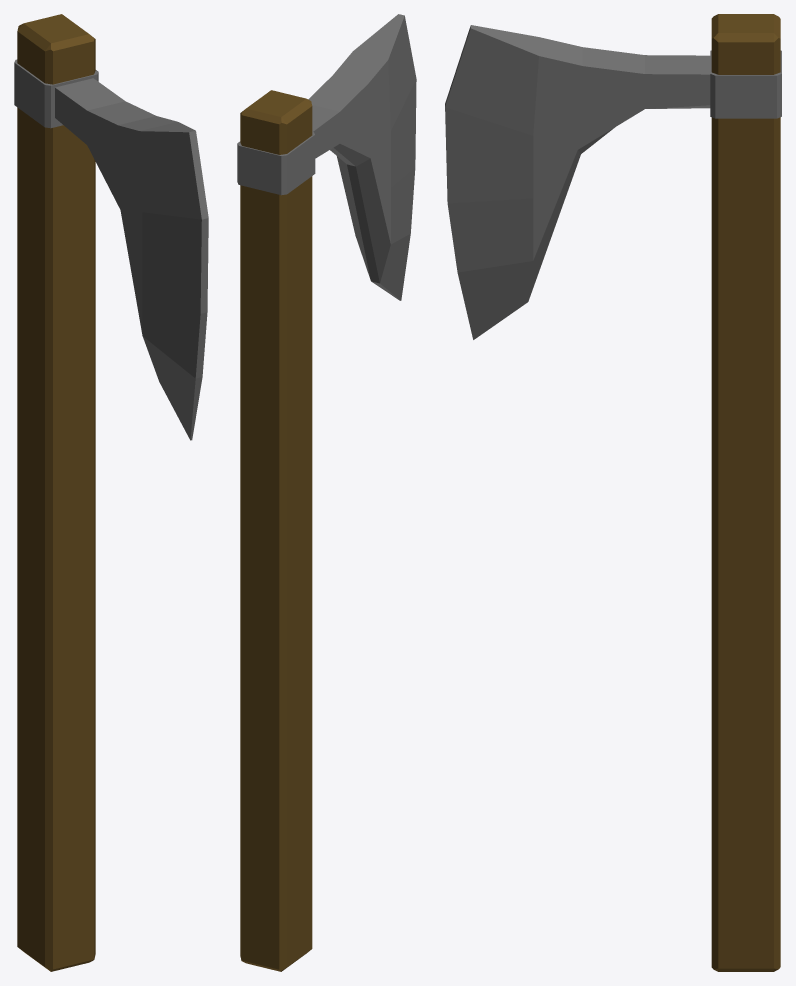
The model's file is NordicAxeFBX.fbx.
3 renders of one model, left to right at view 1: azimuth 30°, elevation 25°; view 2: azimuth 150°, elevation 25°; view 3: azimuth 270°, elevation 25°, orthographic. The views are drawn at different scales.
Parts seen in each view (by area): view 1: Cube.002, Cube.001, Cube; view 2: Cube.002, Cube.001, Cube; view 3: Cube.002, Cube.001, Cube.
Boxes of the visible parts, x1,y1,x2,y2 form: Cube.002: (17,14,95,971); Cube.001: (55,78,208,440); Cube: (14,59,98,128); Cube.002: (240,90,312,971); Cube.001: (308,14,416,300); Cube: (237,132,315,195); Cube.002: (711,14,780,971); Cube.001: (445,25,710,339); Cube: (710,50,781,118).
Size of the model in its own units: 9.13 by 150 by 48.85.
